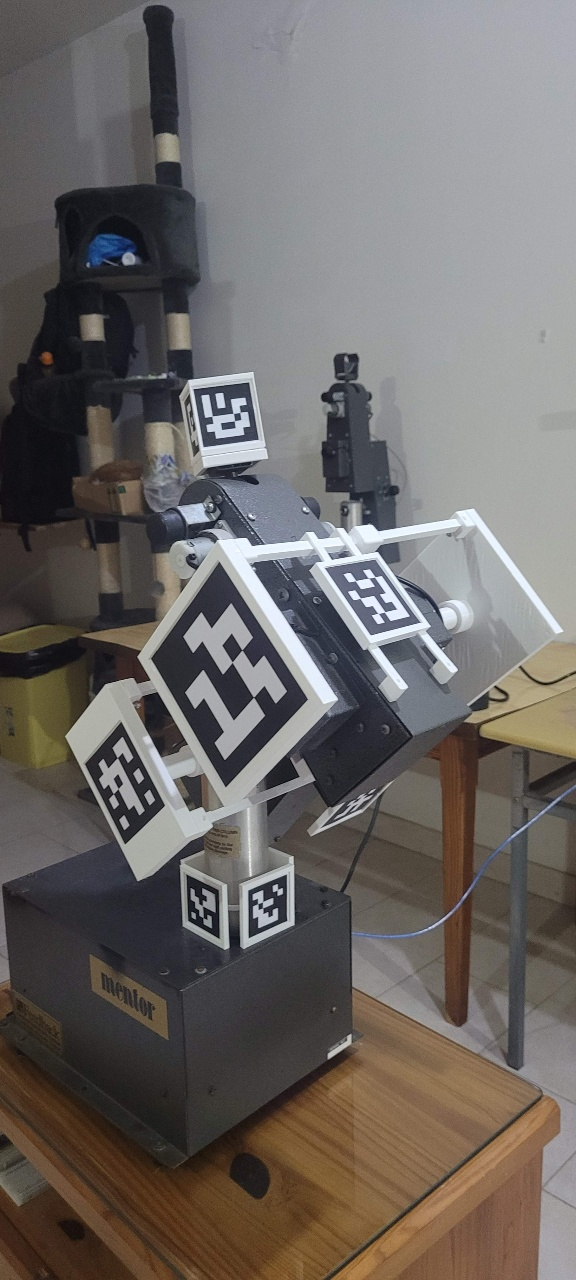Robot: (69, 196, 482, 964)
